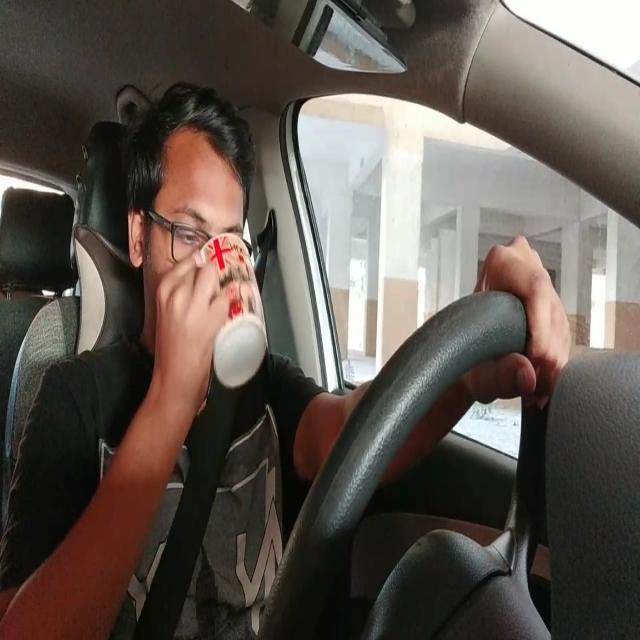Drinking: (129, 126, 268, 389)
